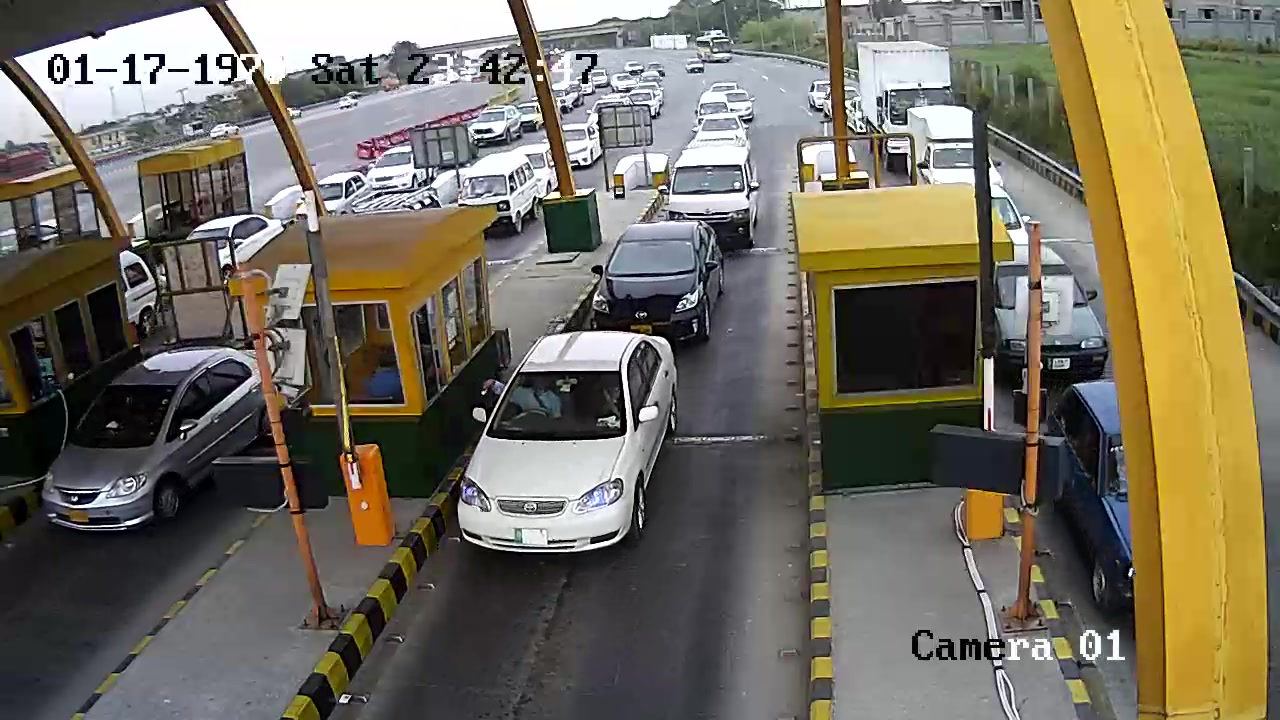F1: (447, 327, 692, 573)
